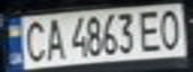3: (115, 9, 139, 55)
4: (66, 13, 87, 60)
6: (100, 11, 121, 56)
8: (84, 12, 106, 57)
A: (42, 16, 66, 62)
C: (21, 17, 51, 63)
E: (136, 7, 166, 53)
O: (154, 6, 187, 52)
